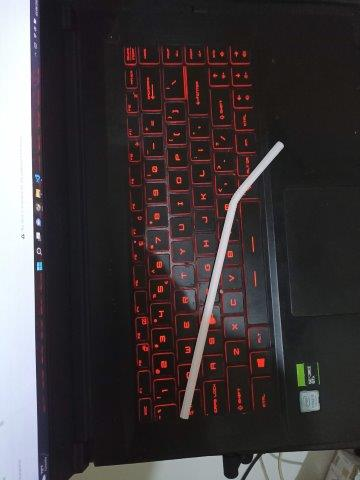sedotan: (179, 141, 284, 418)
